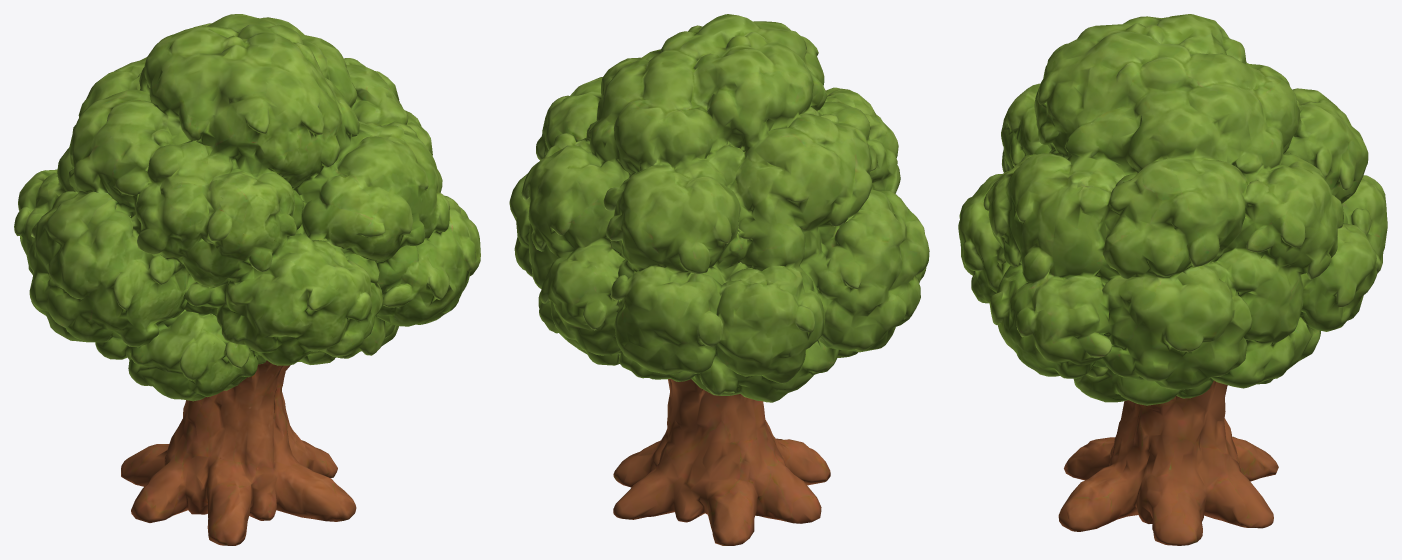
The model's file is tree-medium.glb.
3 views of the same model, side by side, from view 1: azimuth 30°, elevation 25°; view 2: azimuth 150°, elevation 25°; view 3: azimuth 270°, elevation 25° (orthographic). The views are drawn at different scales.
Size of the model in its own units: 1.68 by 1.9 by 1.59.
Materials: 1 (1 with a texture image).
